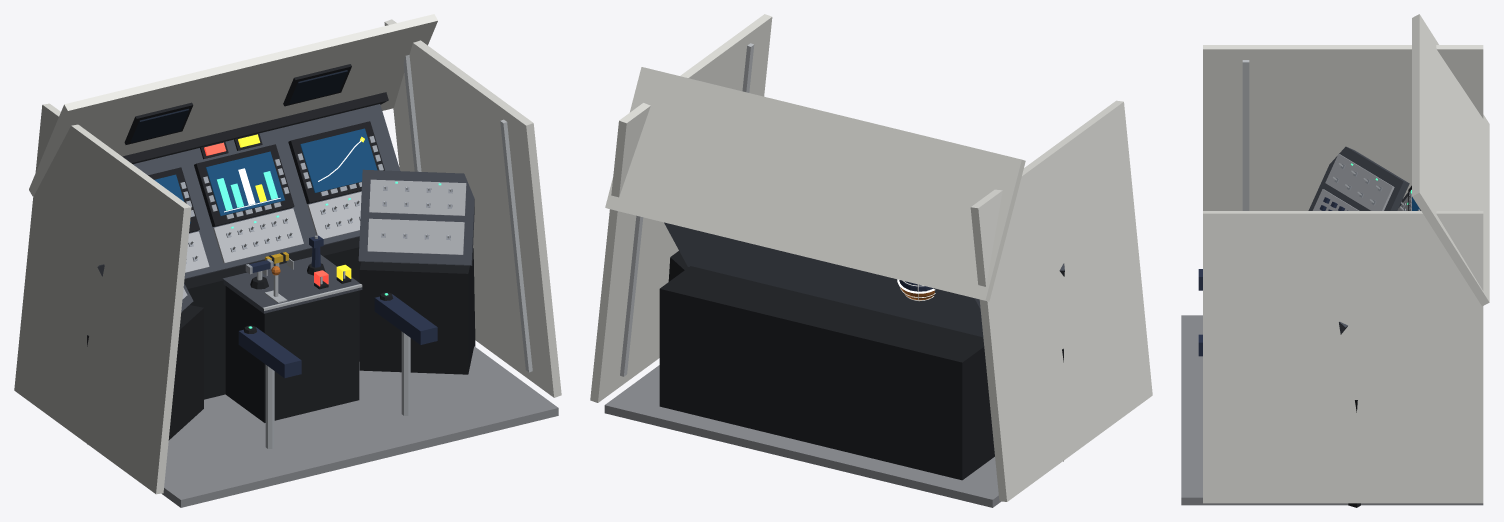
File: cockpit-pilot.glb
3 views of the same model, side by side, from view 1: azimuth 30°, elevation 25°; view 2: azimuth 150°, elevation 25°; view 3: azimuth 270°, elevation 25° (orthographic). The views are drawn at different scales.
Parts seen in each view (by area): view 1: CockpitPilot_Hull, CockpitPilot_HullBlack, CockpitPilot_Titanium, CockpitPilot_Strap, CockpitPilot_SuitGrey, CockpitPilot_Display, CockpitPilot_Pack, CockpitPilot_Aluminum, CockpitPilot_Visor, CockpitPilot_Steel, CockpitPilot_Metal, CockpitPilot_LedGreen; view 2: CockpitPilot_Hull, CockpitPilot_HullBlack, CockpitPilot_Strap, CockpitPilot_Titanium, CockpitPilot_Aluminum; view 3: CockpitPilot_Hull, CockpitPilot_Titanium, CockpitPilot_SuitGrey, CockpitPilot_Strap, CockpitPilot_Aluminum, Breaker_Bank_SuitGrey.
Part boxes in pixels (bbox=[...]): CockpitPilot_Hull: bbox=[14, 14, 561, 494]; CockpitPilot_HullBlack: bbox=[87, 64, 475, 444]; CockpitPilot_Titanium: bbox=[162, 346, 558, 507]; CockpitPilot_Strap: bbox=[97, 104, 474, 313]; CockpitPilot_SuitGrey: bbox=[185, 179, 466, 272]; CockpitPilot_Display: bbox=[154, 128, 377, 223]; CockpitPilot_Pack: bbox=[238, 294, 437, 378]; CockpitPilot_Aluminum: bbox=[263, 55, 532, 372]; CockpitPilot_Visor: bbox=[130, 70, 347, 142]; CockpitPilot_Steel: bbox=[186, 186, 451, 448]; CockpitPilot_Metal: bbox=[180, 136, 452, 263]; CockpitPilot_LedGreen: bbox=[217, 171, 441, 328]; CockpitPilot_Hull: bbox=[590, 14, 1152, 501]; CockpitPilot_HullBlack: bbox=[659, 251, 1063, 480]; CockpitPilot_Strap: bbox=[664, 222, 1064, 337]; CockpitPilot_Titanium: bbox=[604, 365, 1001, 507]; CockpitPilot_Aluminum: bbox=[620, 43, 754, 376]; CockpitPilot_Hull: bbox=[1203, 14, 1489, 503]; CockpitPilot_Titanium: bbox=[1181, 315, 1483, 505]; CockpitPilot_SuitGrey: bbox=[1325, 154, 1408, 210]; CockpitPilot_Strap: bbox=[1308, 146, 1409, 334]; CockpitPilot_Aluminum: bbox=[1242, 60, 1249, 210]; Breaker_Bank_SuitGrey: bbox=[1312, 189, 1359, 210].
Bounding box in the file's own units: 2.15 × 1.59 × 1.43.
